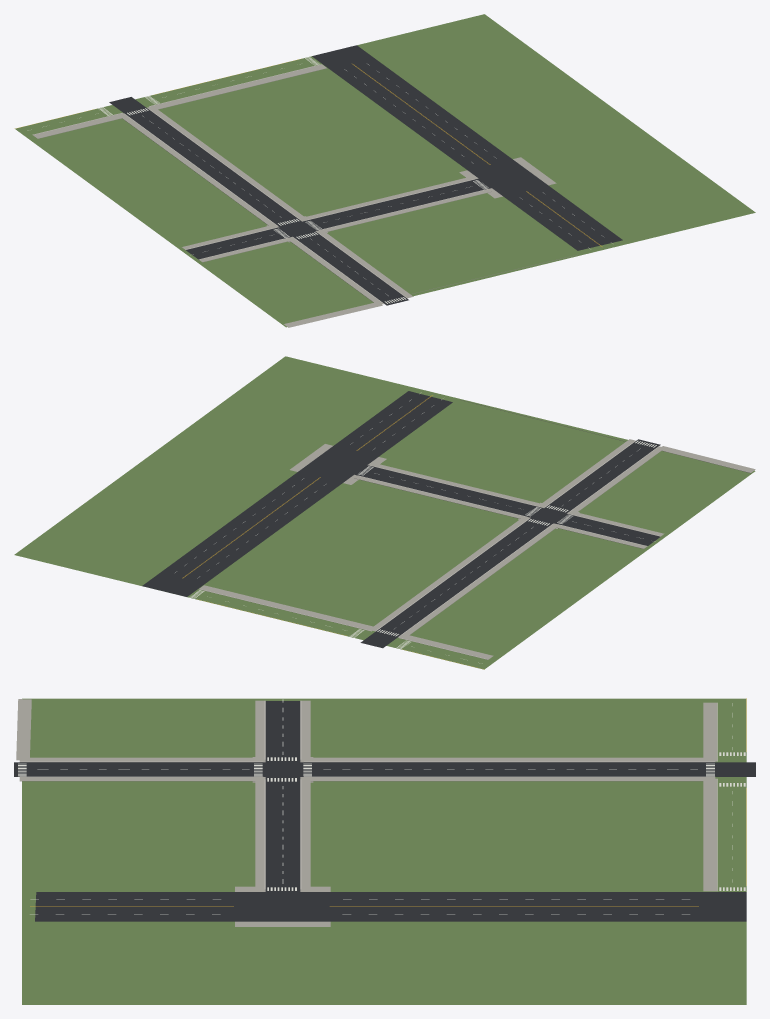
Rendered from Ground_7_3.fbx.
3 views of the same model, one above another, from view 1: azimuth 30°, elevation 25°; view 2: azimuth 150°, elevation 25°; view 3: azimuth 270°, elevation 25° (orthographic). The views are drawn at different scales.
Parts seen in each view (by area): view 1: Ground_7_3; view 2: Ground_7_3; view 3: Ground_7_3.
Boxes of the visible parts, <box> form: Ground_7_3: <box>14,14,755,327</box>; Ground_7_3: <box>14,356,755,669</box>; Ground_7_3: <box>14,698,755,1004</box>.
Bounding box in the file's own units: 250 × 0.14 × 256.
